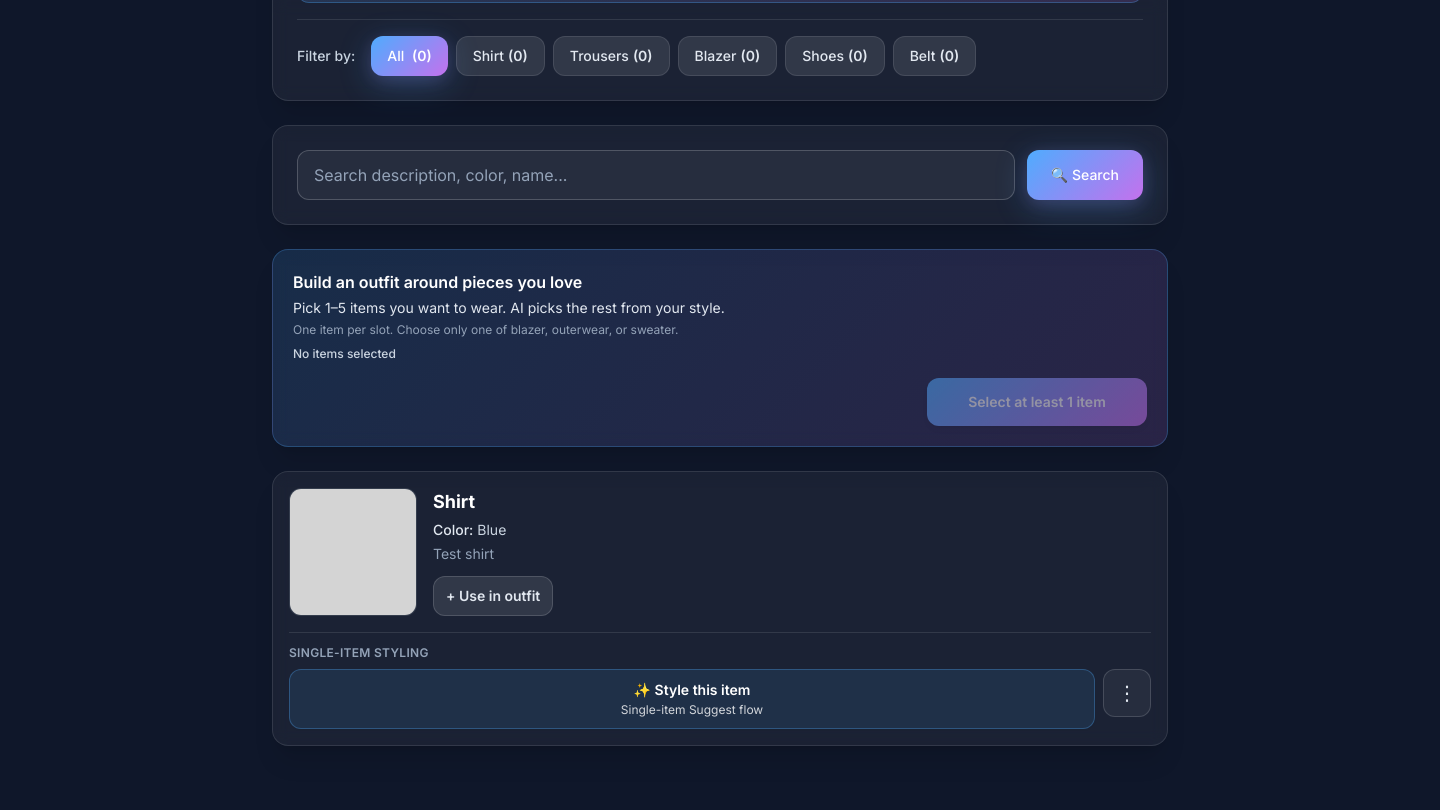
it: Wardrobe page › renders all server-filtered Past Suggestions without a client-side photo/slot filter
The image size is (1440, 810).
(page scrolled)
Click the button "⋮": x=1127, y=693 [1103,669,1151,717]
(page scrolled)
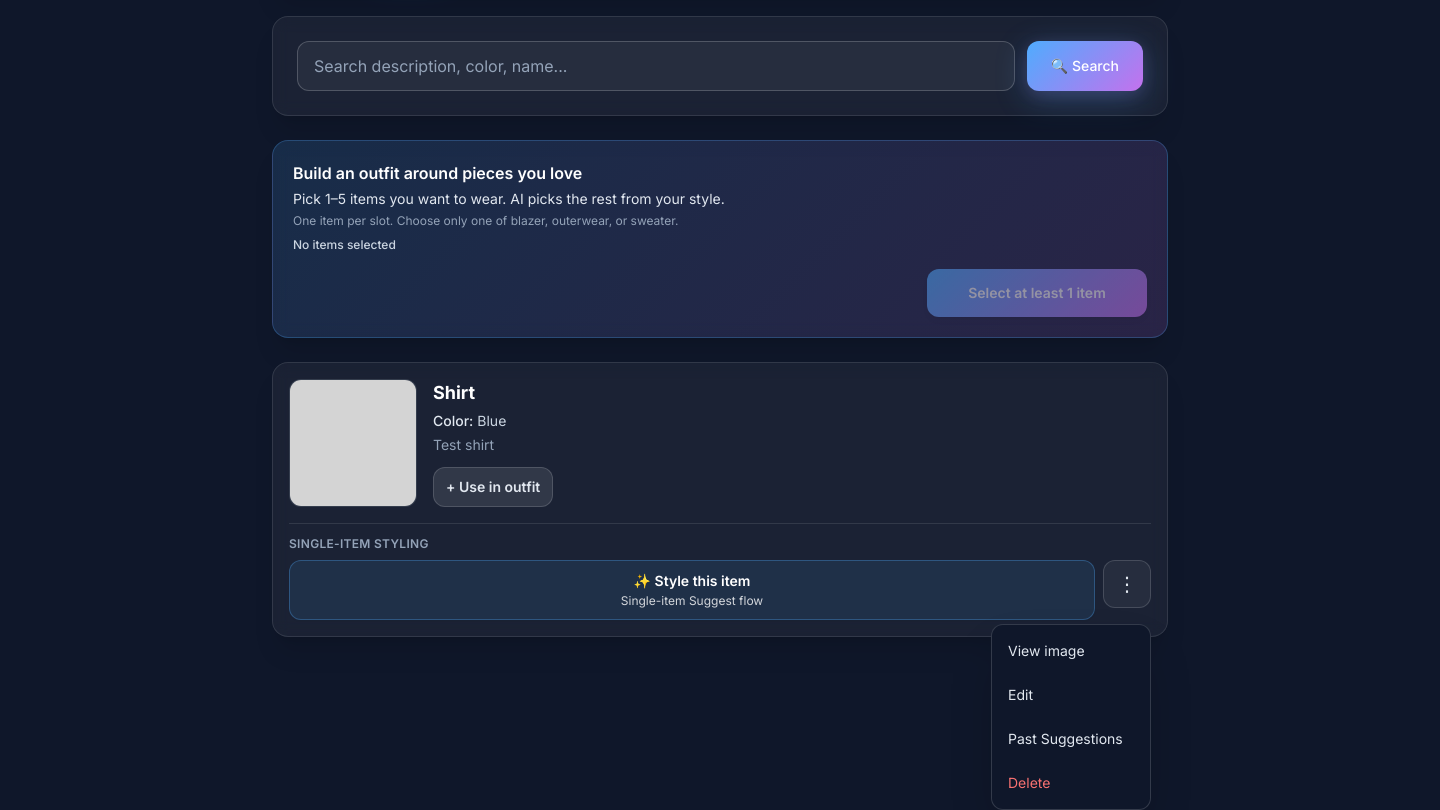
Click the menu item with test id "wardrobe-menu-past-suggestions-1": x=1071, y=739 [992,717,1150,761]
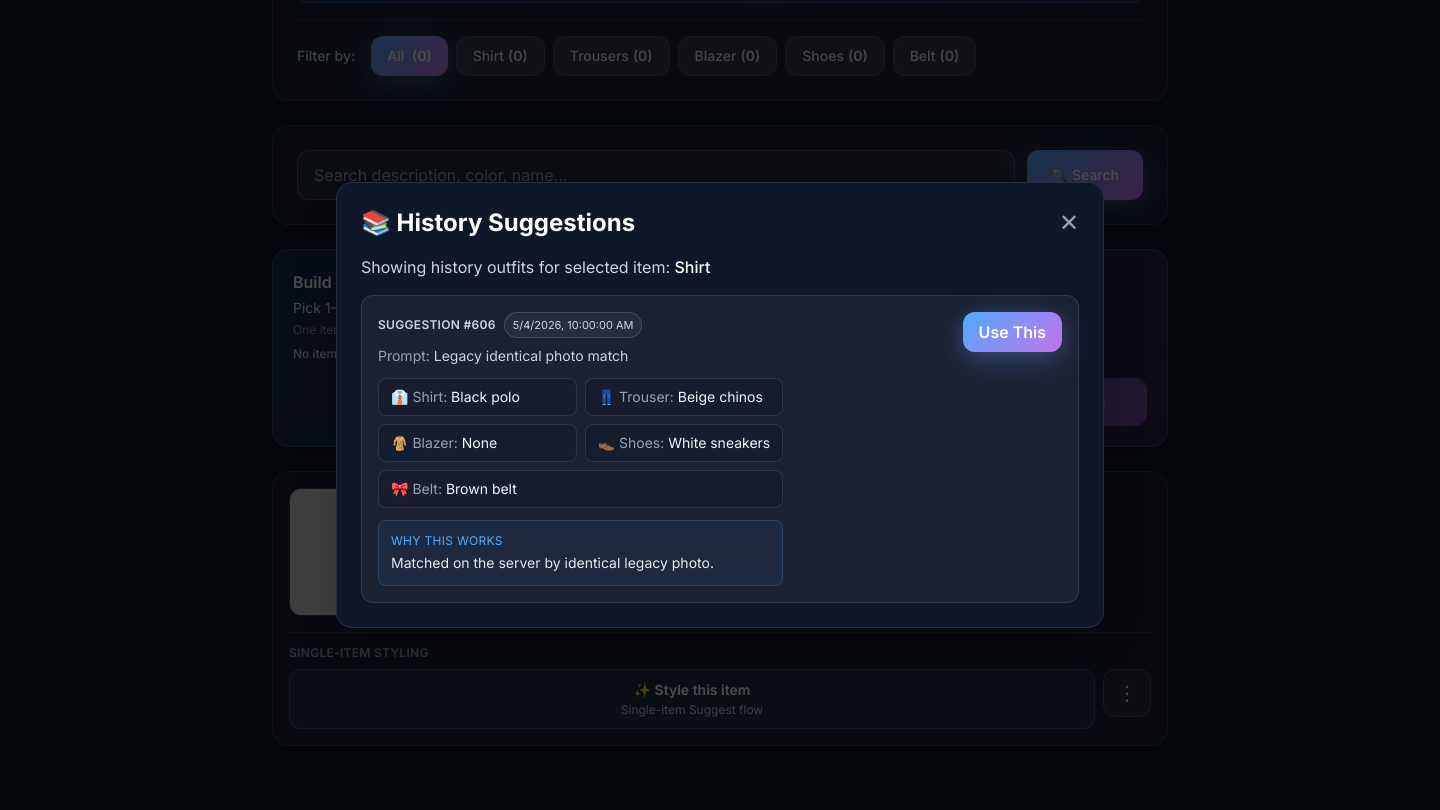
Check: the text "Suggestion #606" is shown, box [378,317,496,333]
